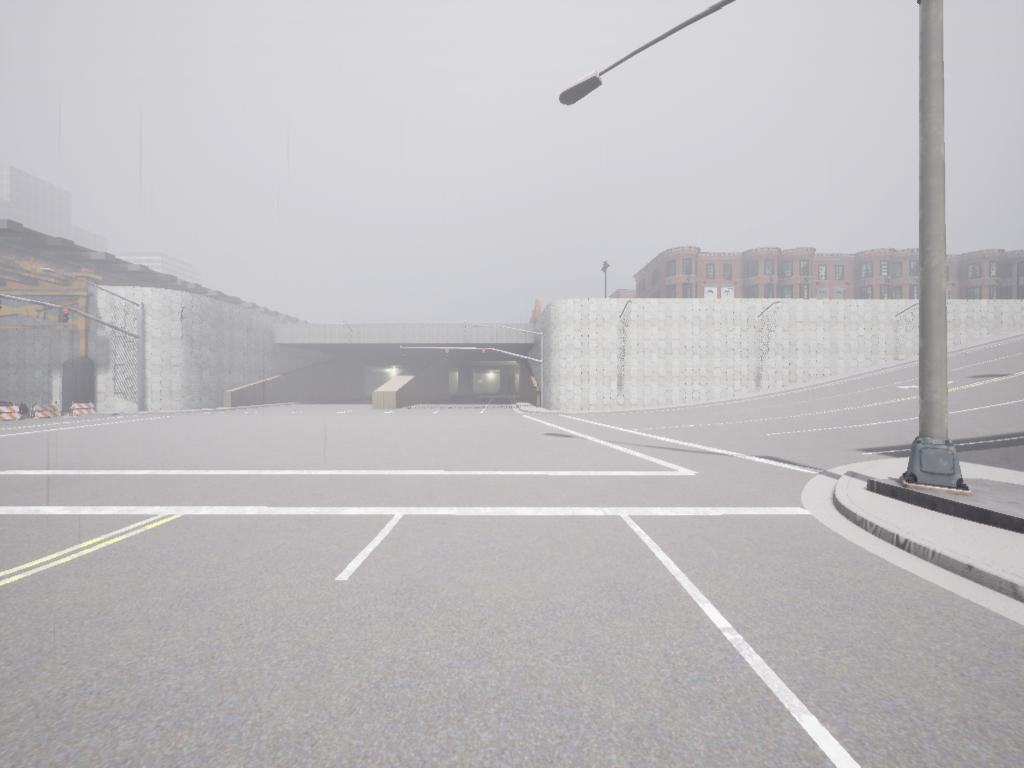traffic_light: (58, 305, 69, 329), (481, 350, 489, 362), (402, 347, 407, 360), (445, 347, 450, 360)
